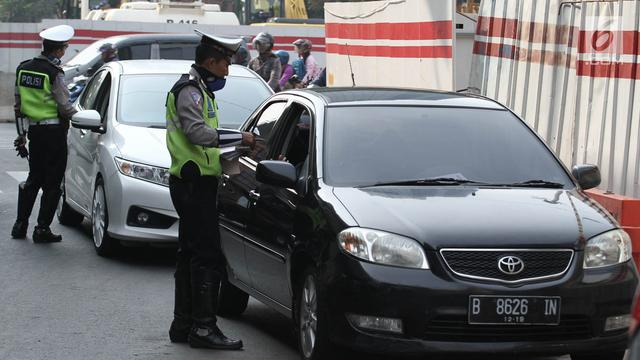plate: (471, 297, 559, 325)
